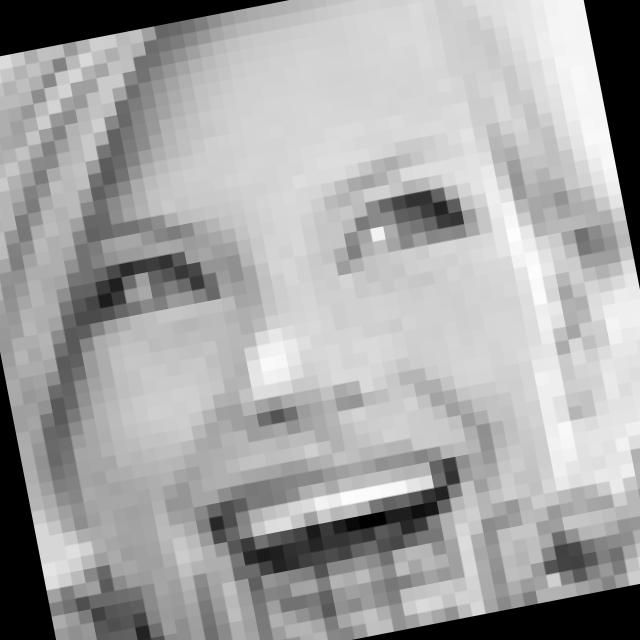happy: (70, 131, 569, 640)
